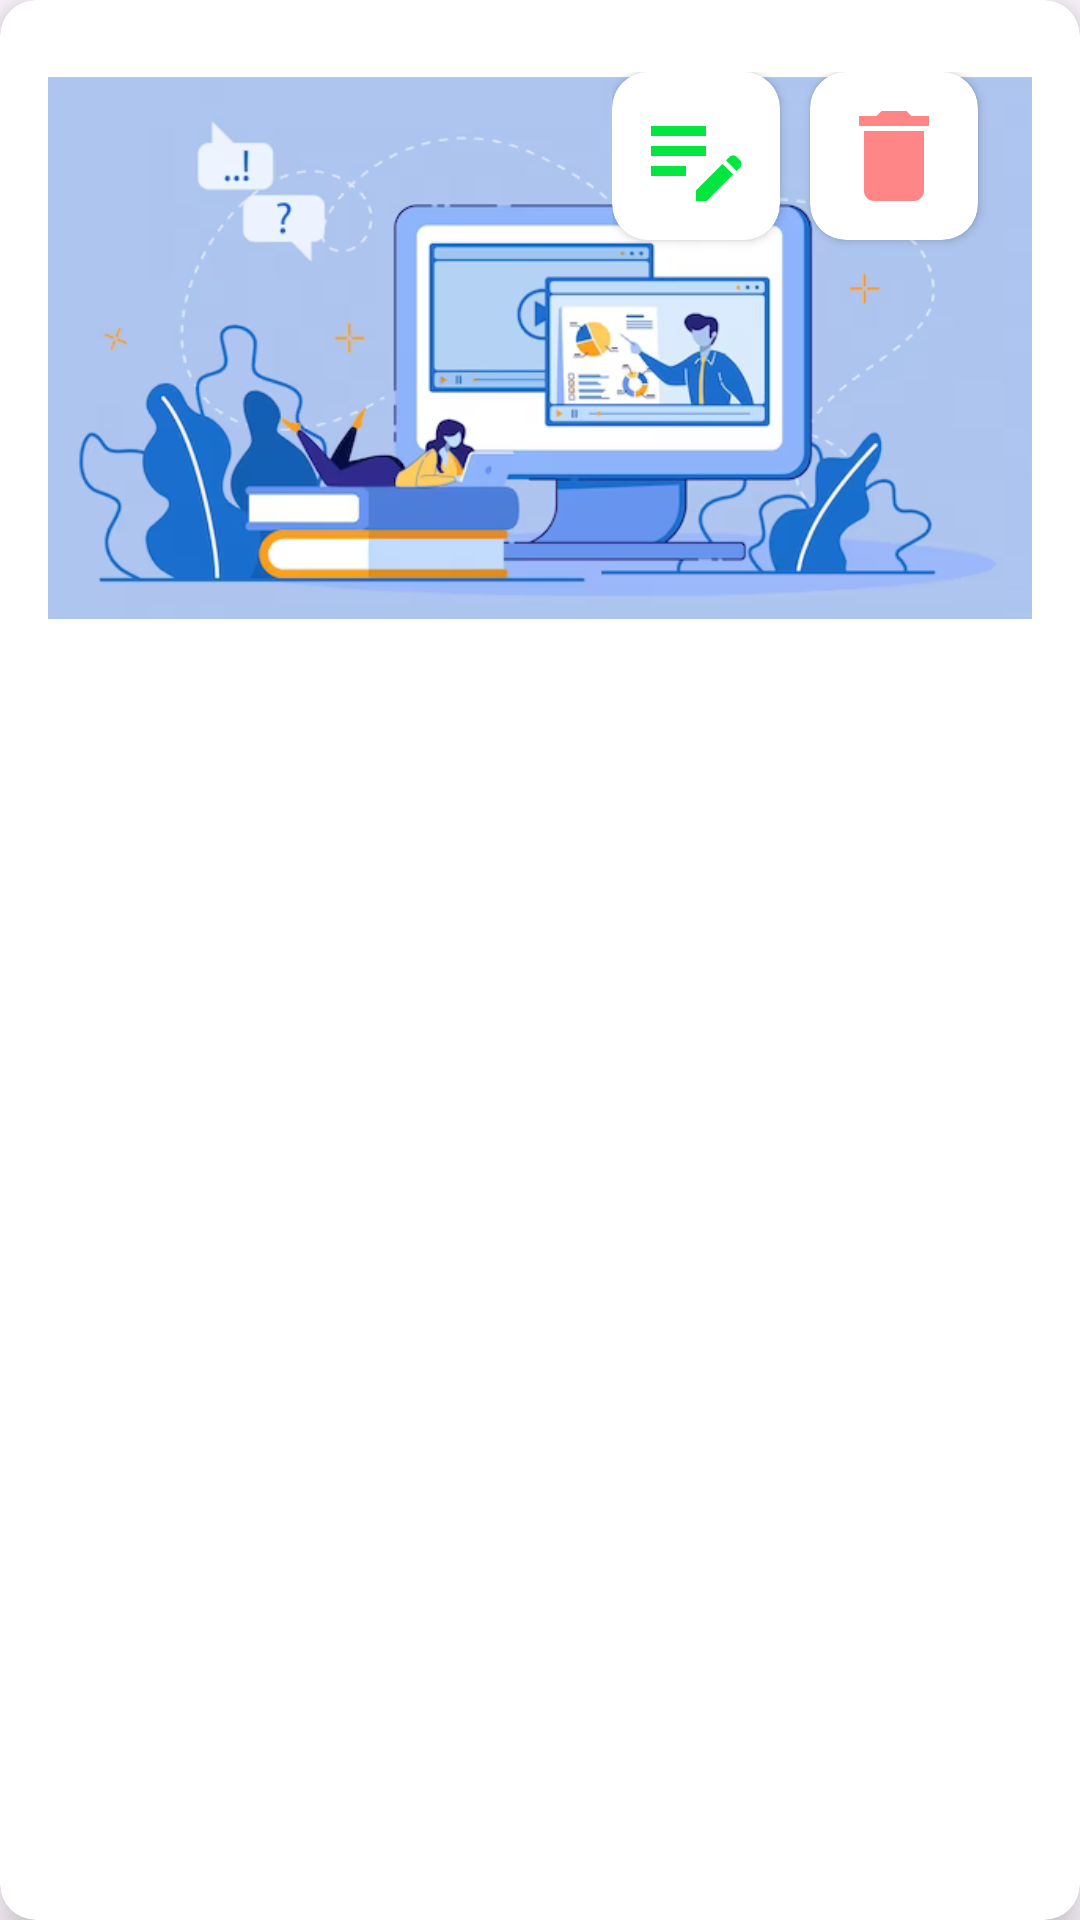

Icons on this 1080*1920 Android screen, each with the point to tap as point (x, y):
delete: point (894, 156)
edit: point (696, 156)
